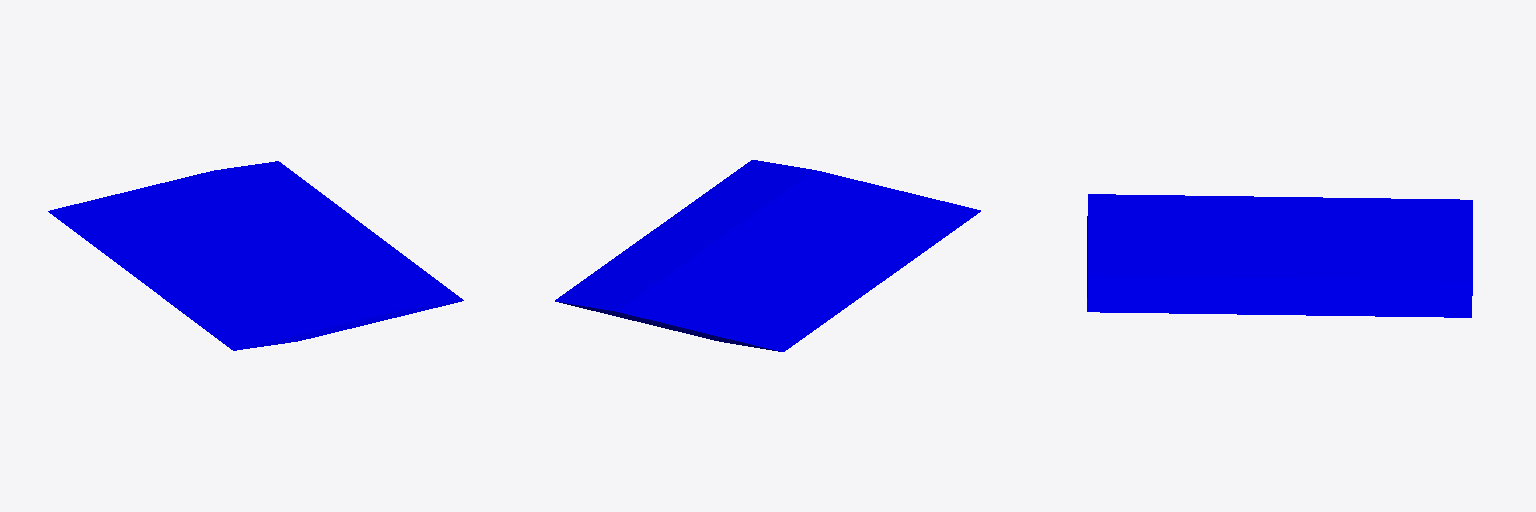
File: planes_1-dynamic - BLK2GO-3630355-Scan 080 43.obj
3 views of the same model, side by side, from view 1: azimuth 30°, elevation 25°; view 2: azimuth 150°, elevation 25°; view 3: azimuth 270°, elevation 25° (orthographic).
Parts seen in each view (by area): view 1: 1-dynamic_-_BLK2GO-[number redacted]-Scan_080_43_0; view 2: 1-dynamic_-_BLK2GO-[number redacted]-Scan_080_43_0; view 3: 1-dynamic_-_BLK2GO-[number redacted]-Scan_080_43_0.
Part boxes in pixels (left/top/right/bottom): 1-dynamic_-_BLK2GO-[number redacted]-Scan_080_43_0: left=48, top=161, right=463, bottom=350; 1-dynamic_-_BLK2GO-[number redacted]-Scan_080_43_0: left=555, top=160, right=980, bottom=351; 1-dynamic_-_BLK2GO-[number redacted]-Scan_080_43_0: left=1087, top=194, right=1472, bottom=317.
Bounding box in the file's own units: 1.44 × 0.0471 × 2.03.